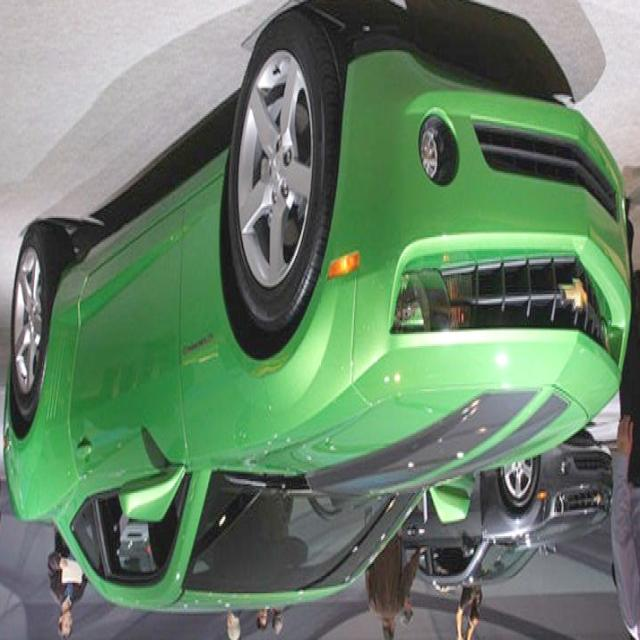green: (4, 12, 632, 616)
